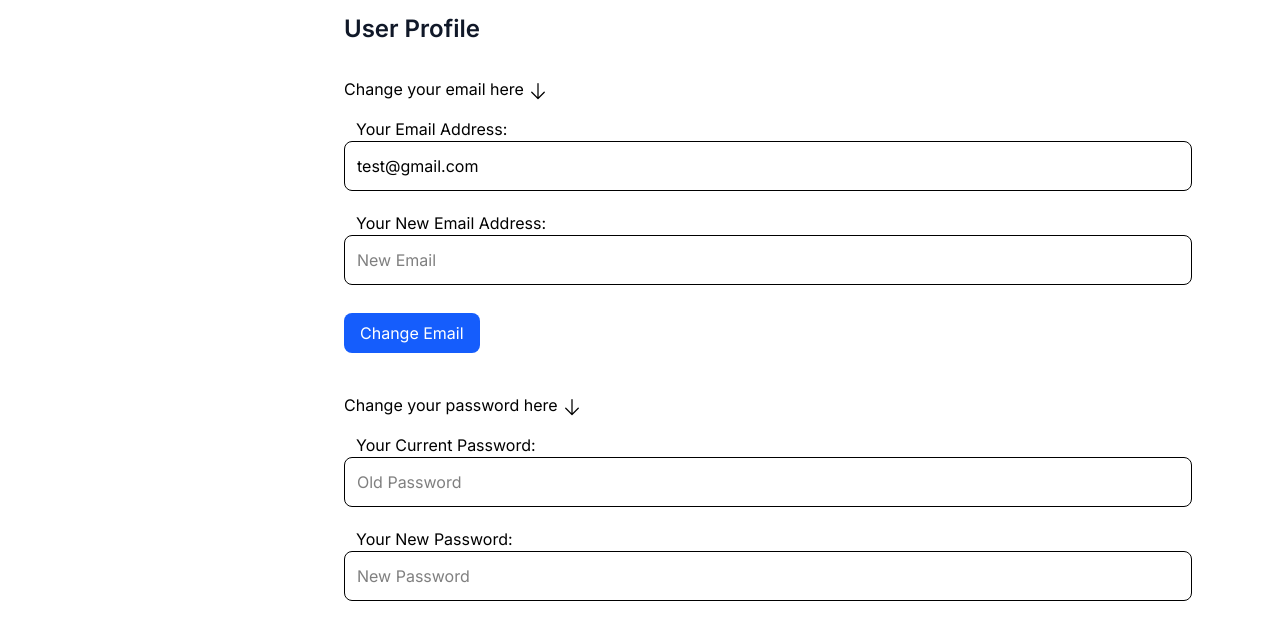
Test: Settings page › should show error if update password failed
Type "11111111111" into the password field with placeholder "Old Password" at (768, 482), box [344,457,1192,507]
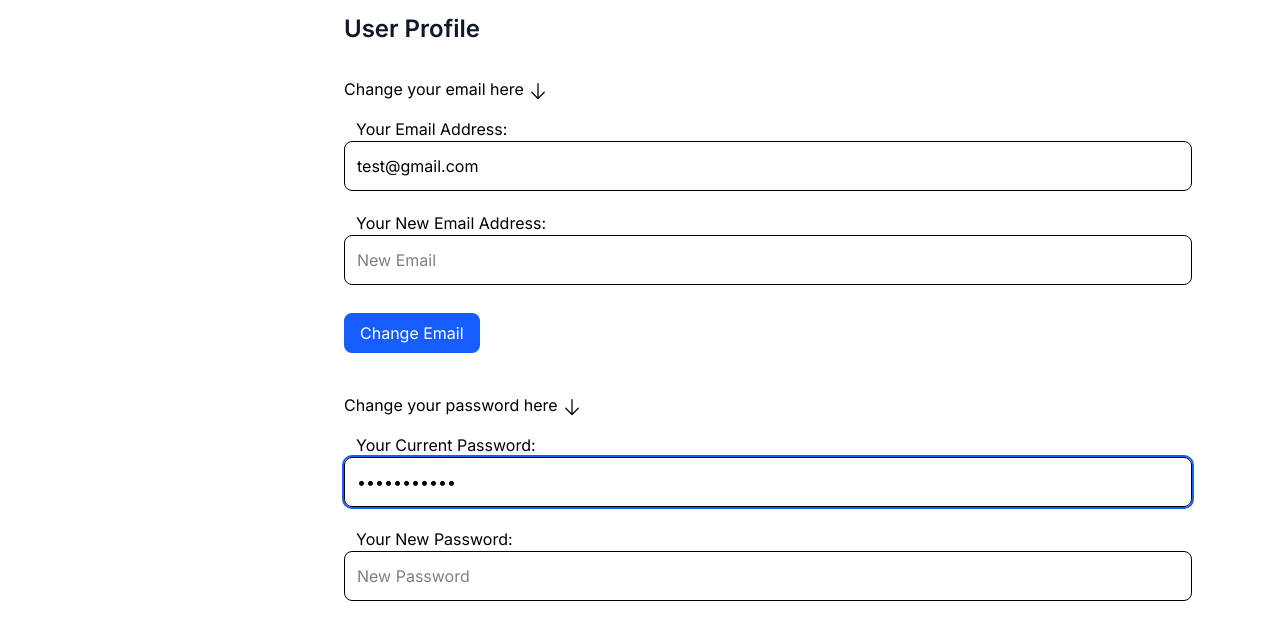
Type "123321" into the password field with placeholder "New Password" at (768, 576), box [344,551,1192,601]
(page scrolled)
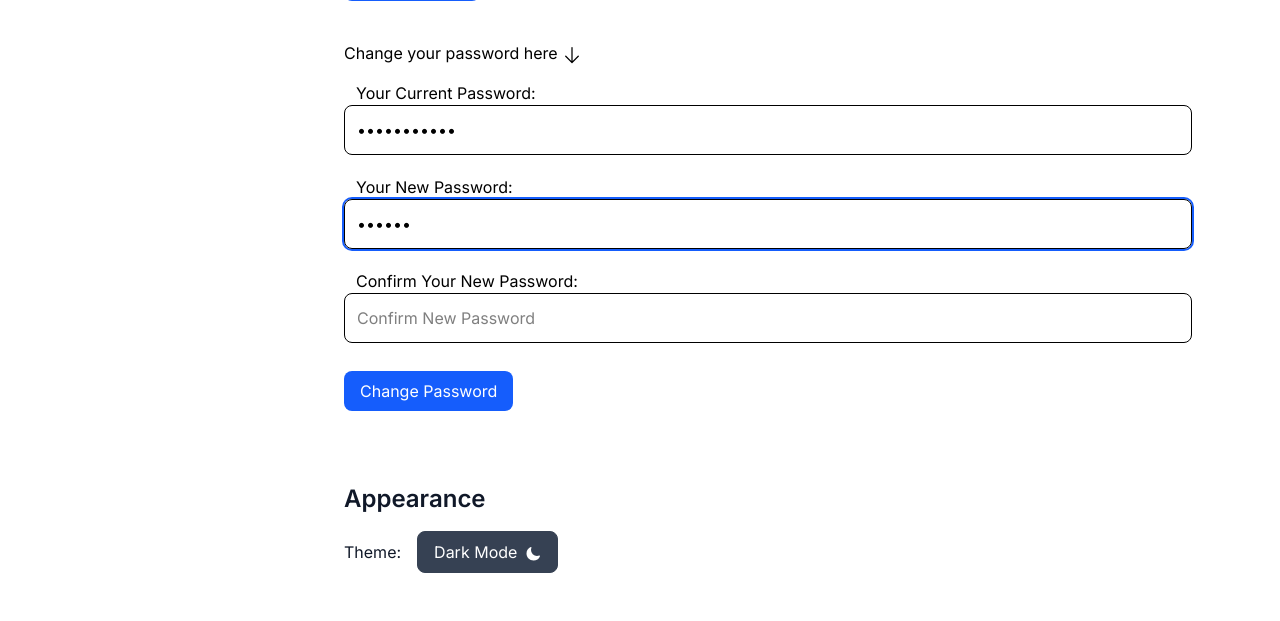
Type "123321" into the password field with placeholder "Confirm New Password" at (768, 318), box [344,293,1192,343]
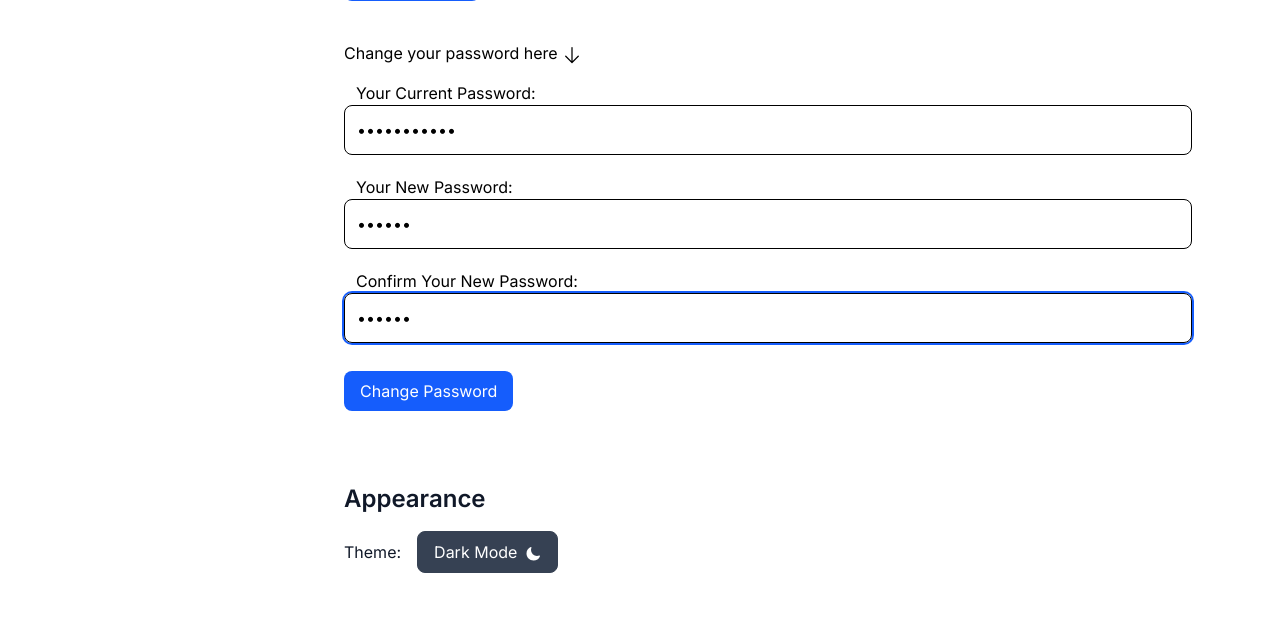
Click the button "Change Password" at (429, 391), box [344,371,513,411]
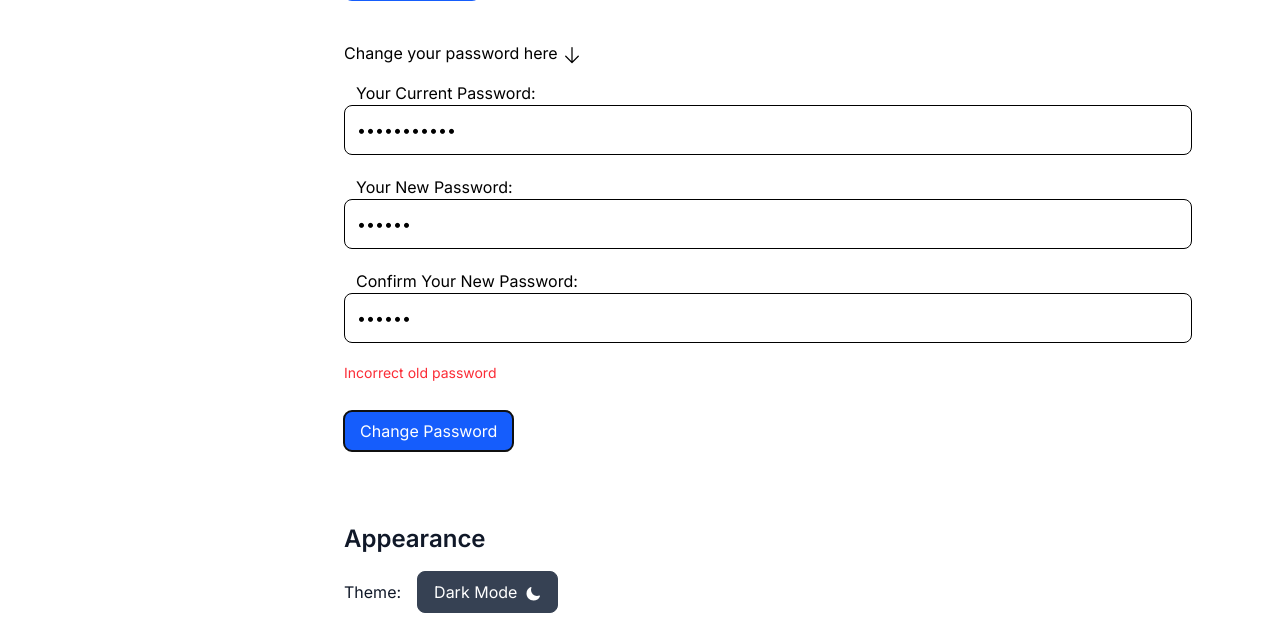
Expected: the text "Incorrect old password" is shown, [344,364,496,381]
